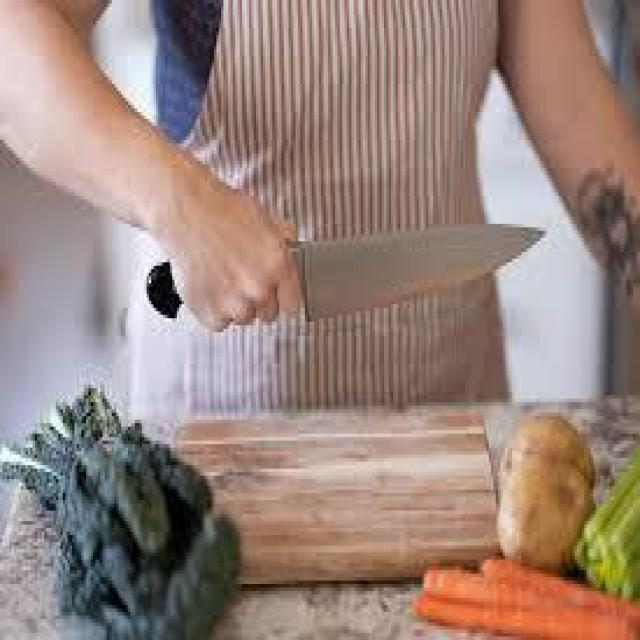faca: (146, 210, 558, 336)
